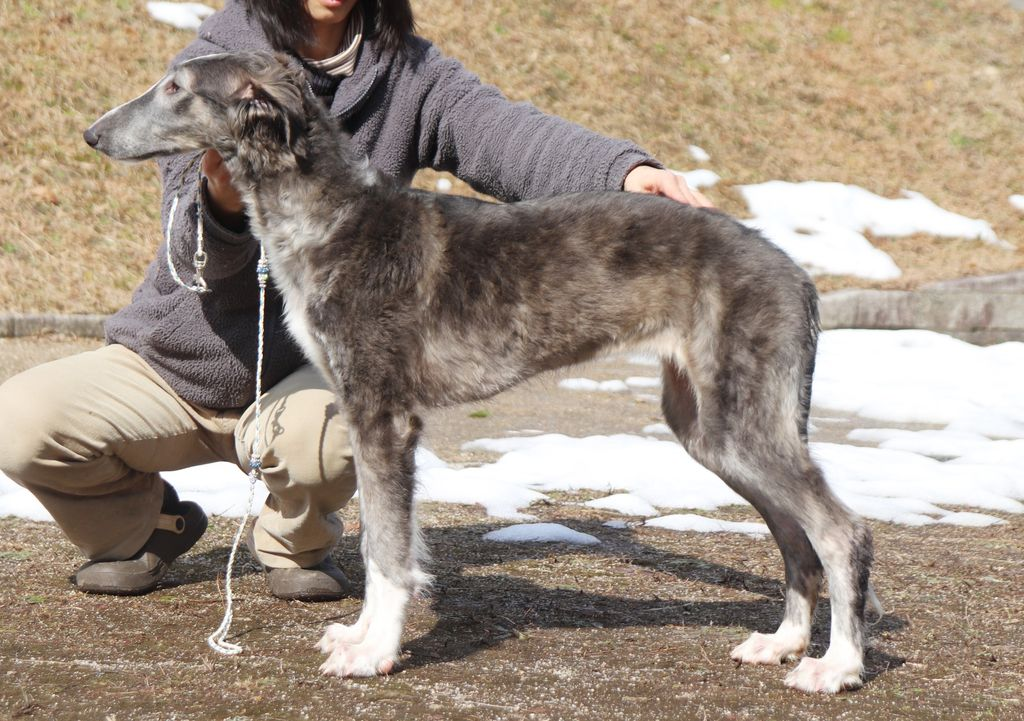borzoi: (60, 50, 910, 701)
